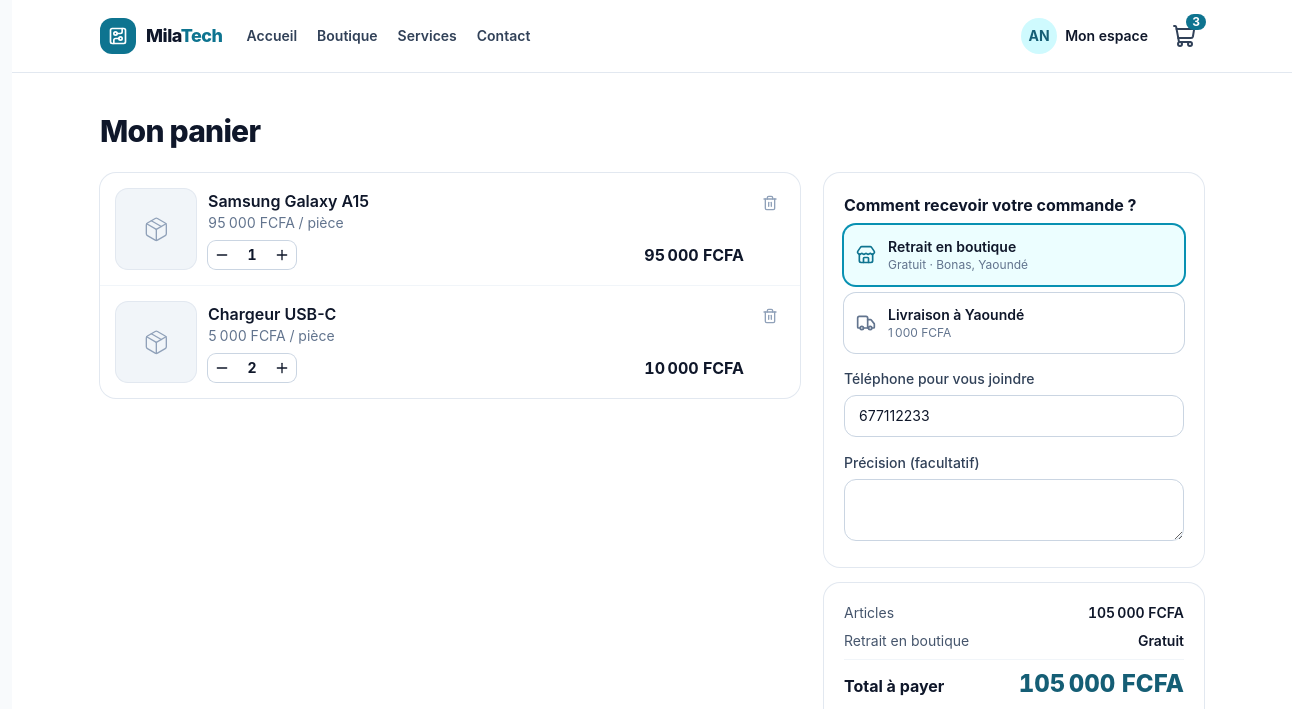
Test: Boutique en ligne › le client commande en livraison, puis suit sa commande
Click the text "Livraison à Yaoundé".
click(956, 314)  # box [888,306,1024,323]
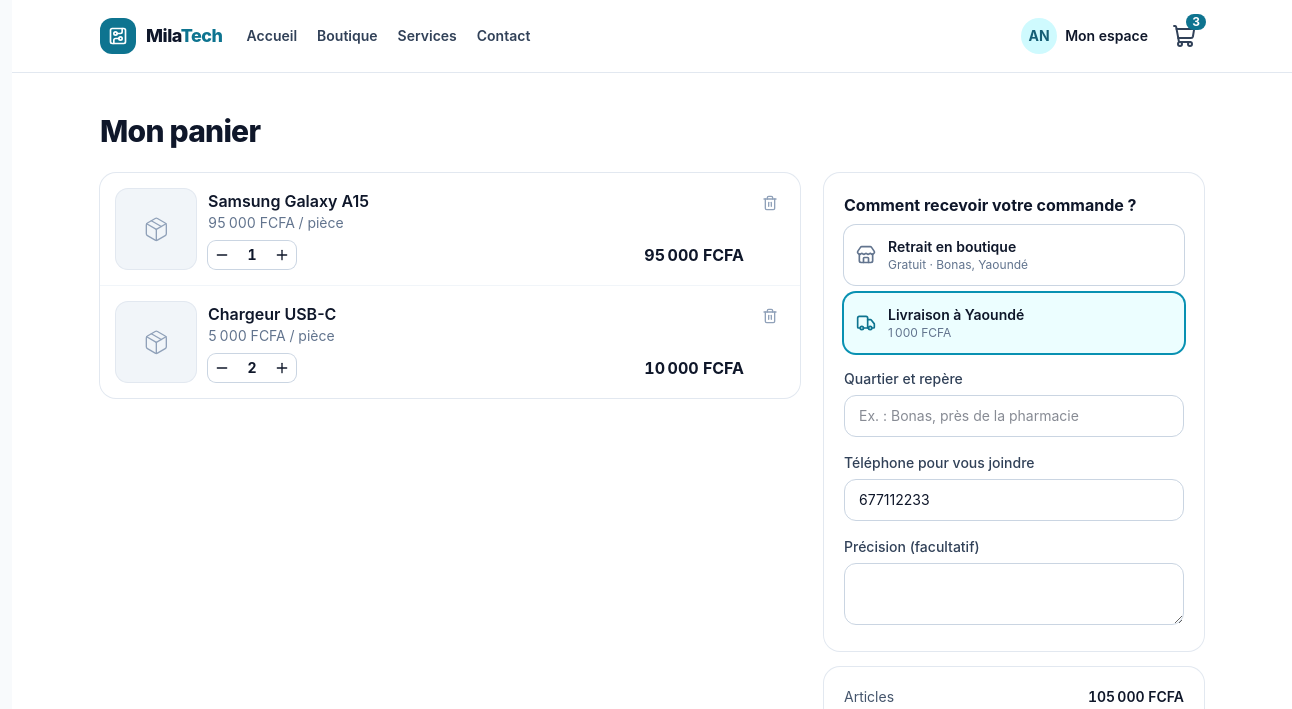
Type "Bonas, près de la pharmacie" into the field labelled "Quartier et repère".
click(1014, 416); type("Bonas, près de la pharmacie")  # box [844,395,1184,437]
(page scrolled)
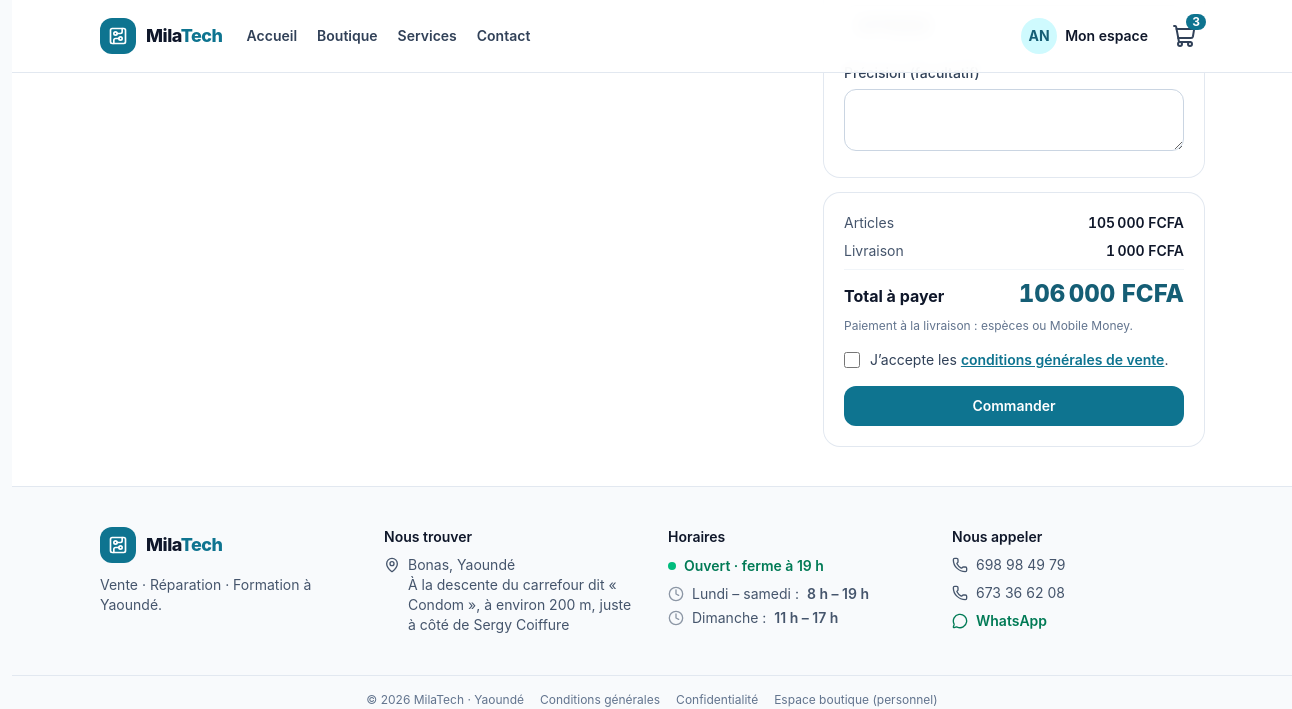
Expected: the field labelled "Téléphone pour vous joindre" holds "677112233", [844,5,1184,47]
Click the checkbox labelled "J’accepte les conditions générales de vente .".
click(852, 360)  # box [844,352,860,368]
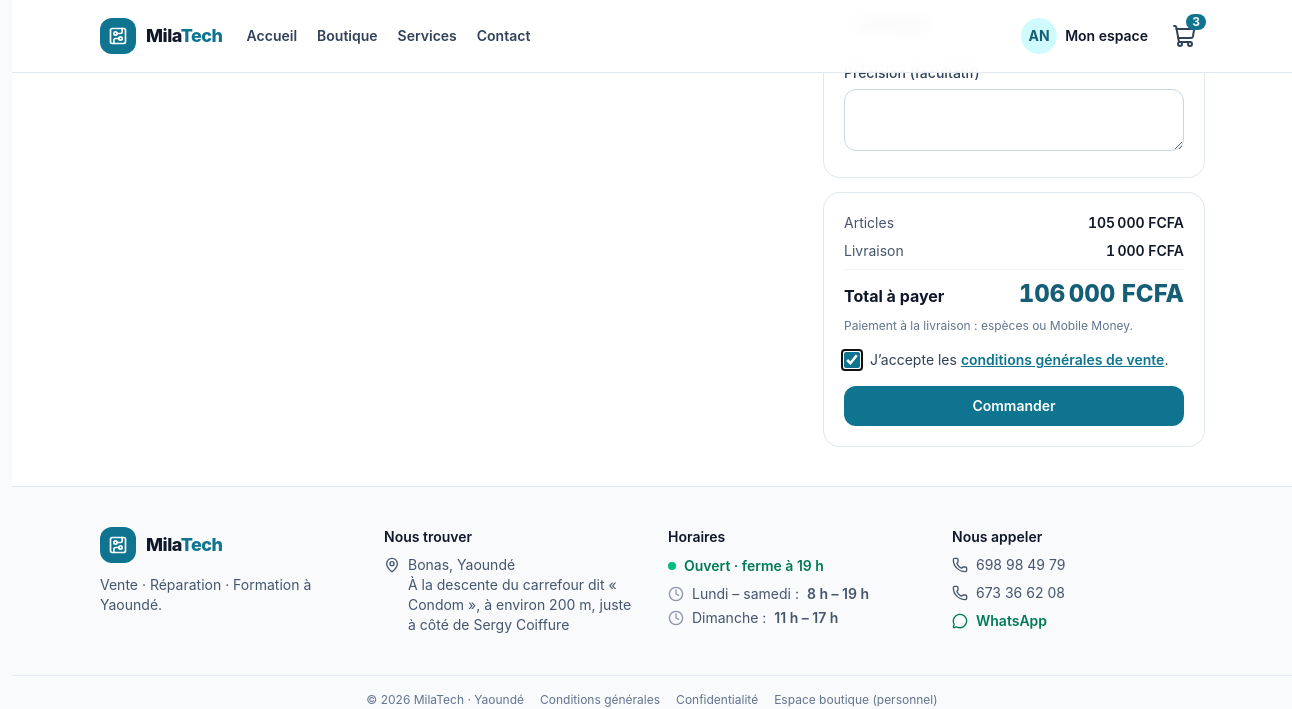
Click the button "Commander".
click(1014, 406)  # box [844,386,1184,426]
(page scrolled)
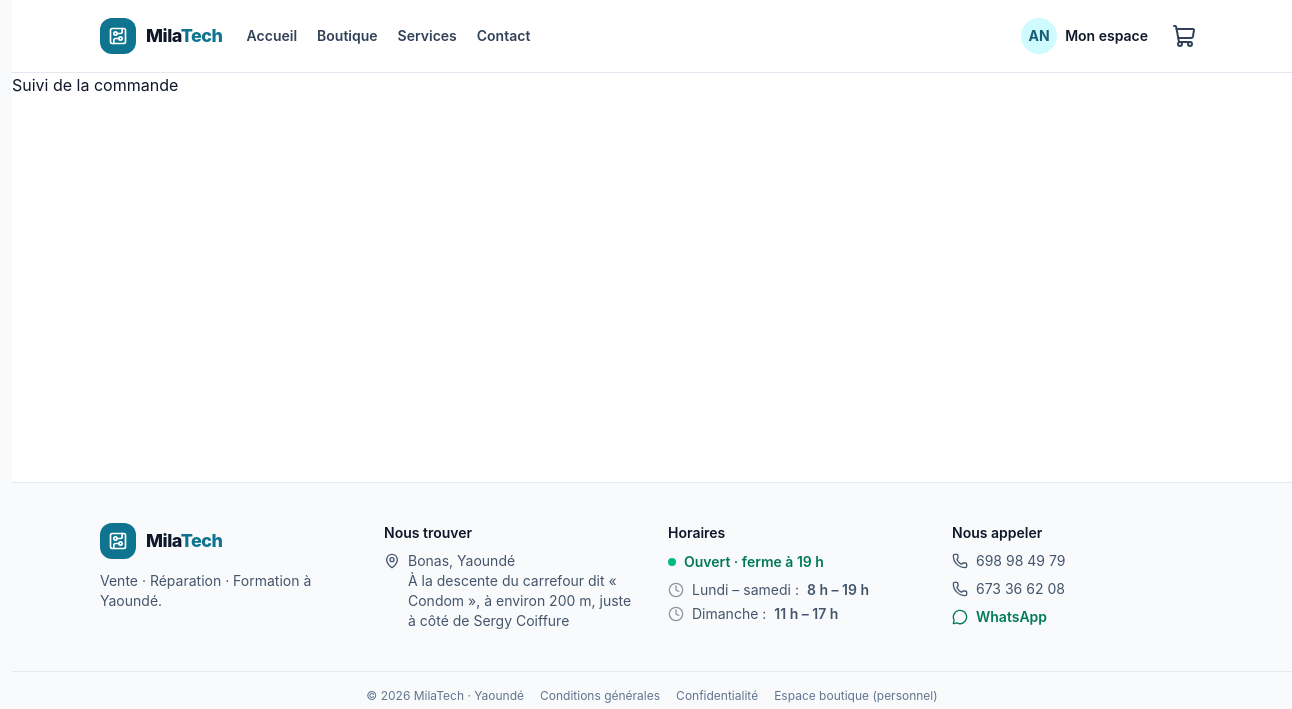
Expected: the text "Suivi de la commande" is shown, [12,75,178,95]
